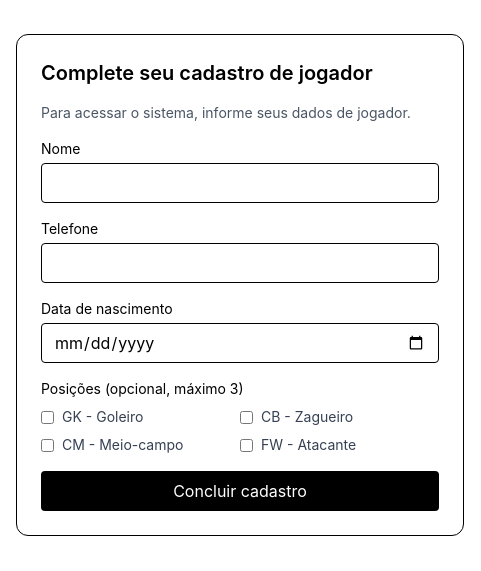
Test: CompletePlayerProfilePage › deve bloquear seleção acima do limite de 3 posições
The width and height of the screenshot is (481, 571).
Click the checkbox labelled "GK - Goleiro".
click(48, 417)  # box x1=41 y1=410 x2=54 y2=424
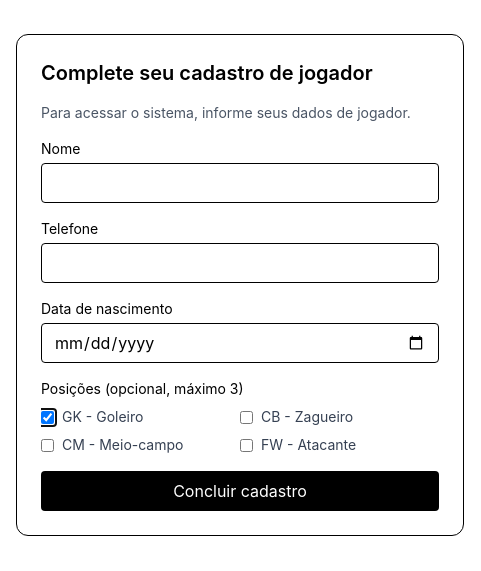
Click the checkbox labelled "CB - Zagueiro".
click(246, 417)  # box x1=240 y1=410 x2=253 y2=424
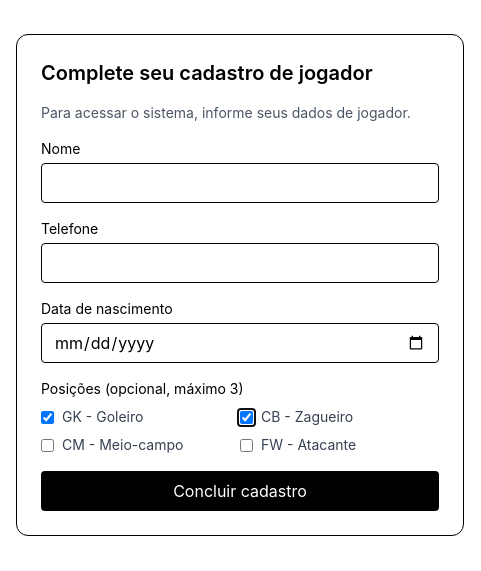
Click the checkbox labelled "CM - Meio-campo".
click(48, 445)  # box x1=41 y1=438 x2=54 y2=452
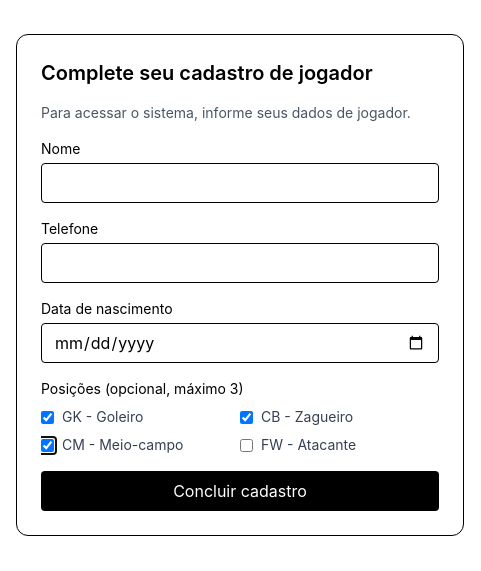
Click the checkbox labelled "FW - Atacante".
click(246, 445)  # box x1=240 y1=438 x2=253 y2=452
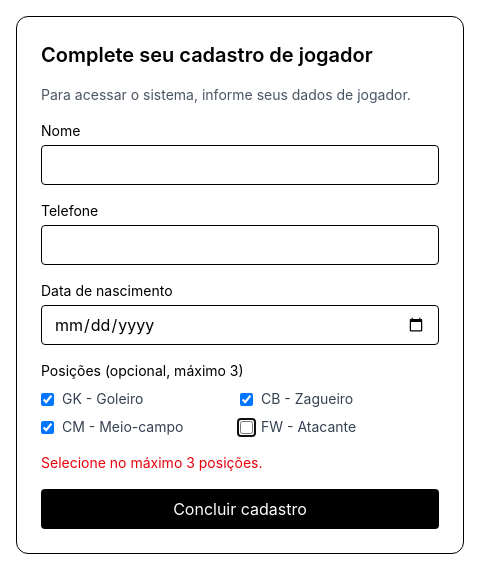
Result: the text "Selecione no máximo 3 posições." is shown at x1=41 y1=454 x2=262 y2=471
